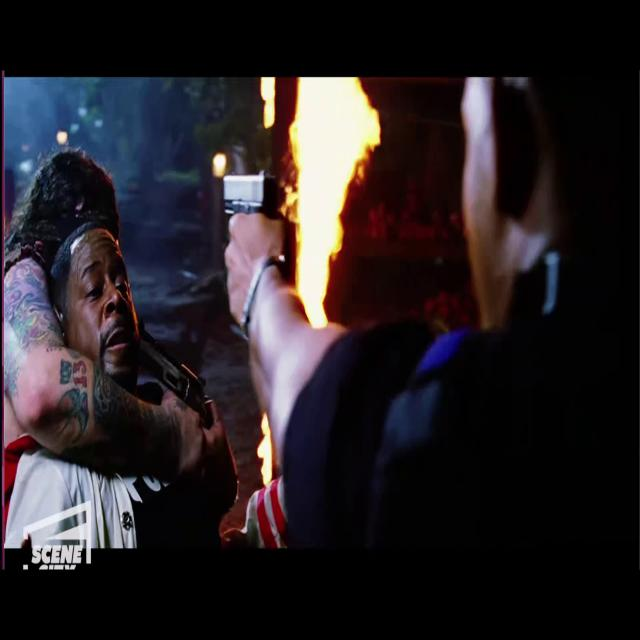weapons: (218, 150, 284, 323)
